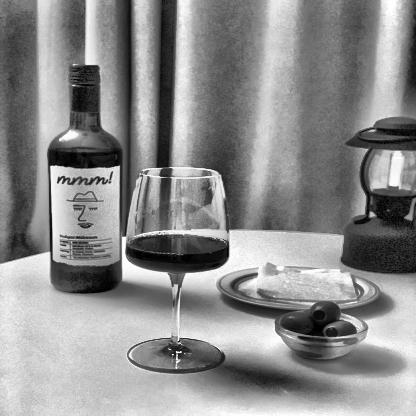umm: (52, 164, 122, 271)
